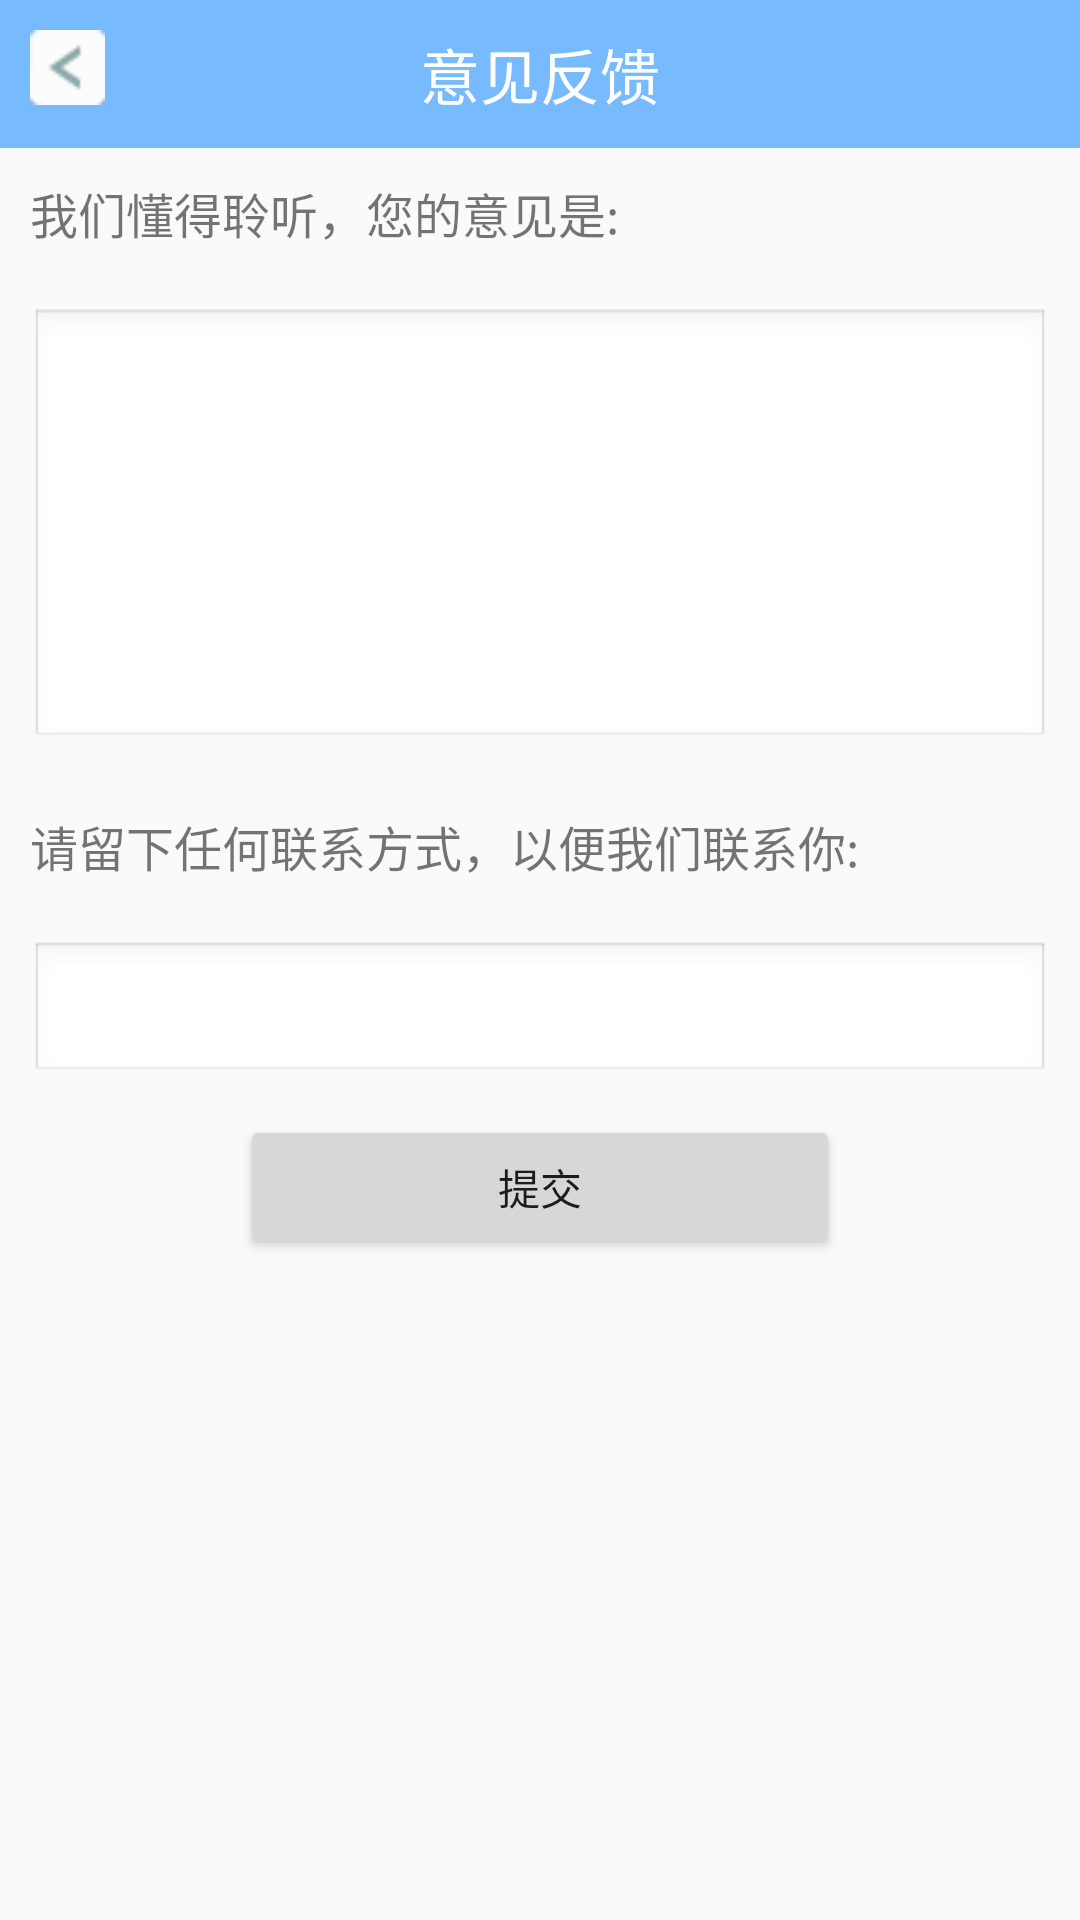

Screen size 1080*1920. Icon name, then its center in pixels as [x,y]:
left: [67,67]
